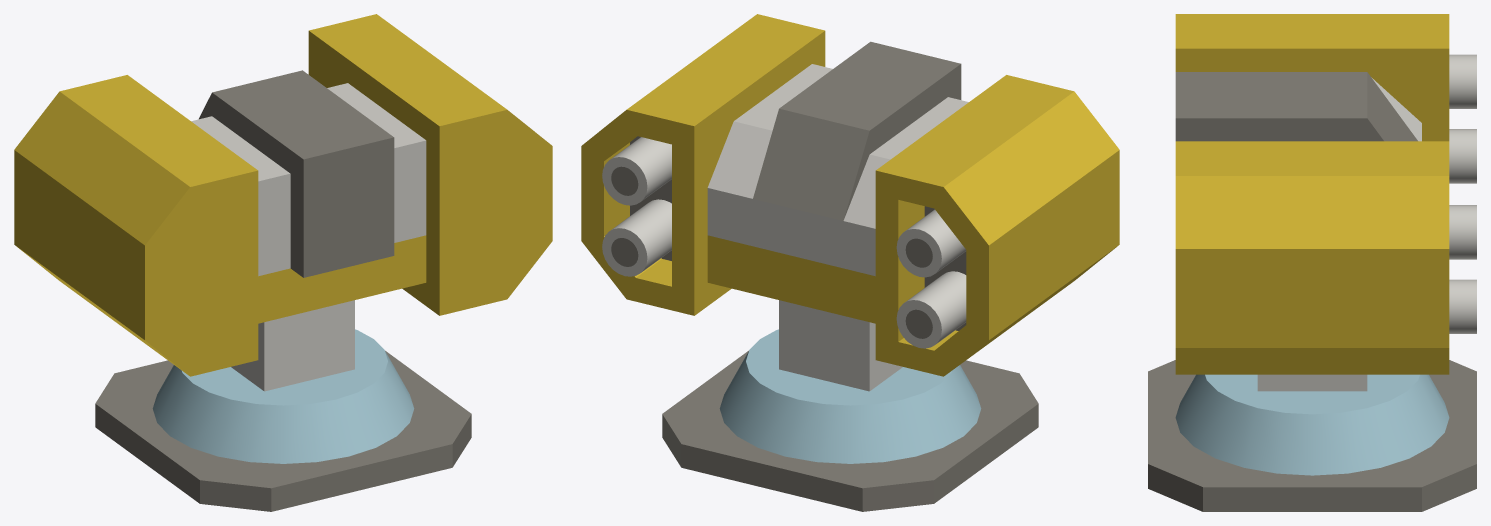
File: cc0-turret-double-lod0.glb
3 views of the same model, side by side, from view 1: azimuth 30°, elevation 25°; view 2: azimuth 150°, elevation 25°; view 3: azimuth 270°, elevation 25° (orthographic). The views are drawn at different scales.
Parts seen in each view (by area): view 1: part_0; view 2: part_0; view 3: part_0.
Boxes of the visible parts, x1,y1,x2,y2 form: part_0: [14, 14, 552, 511]; part_0: [581, 14, 1119, 511]; part_0: [1148, 14, 1476, 511].
Size of the model in its own units: 0.9 by 0.7 by 0.6.
